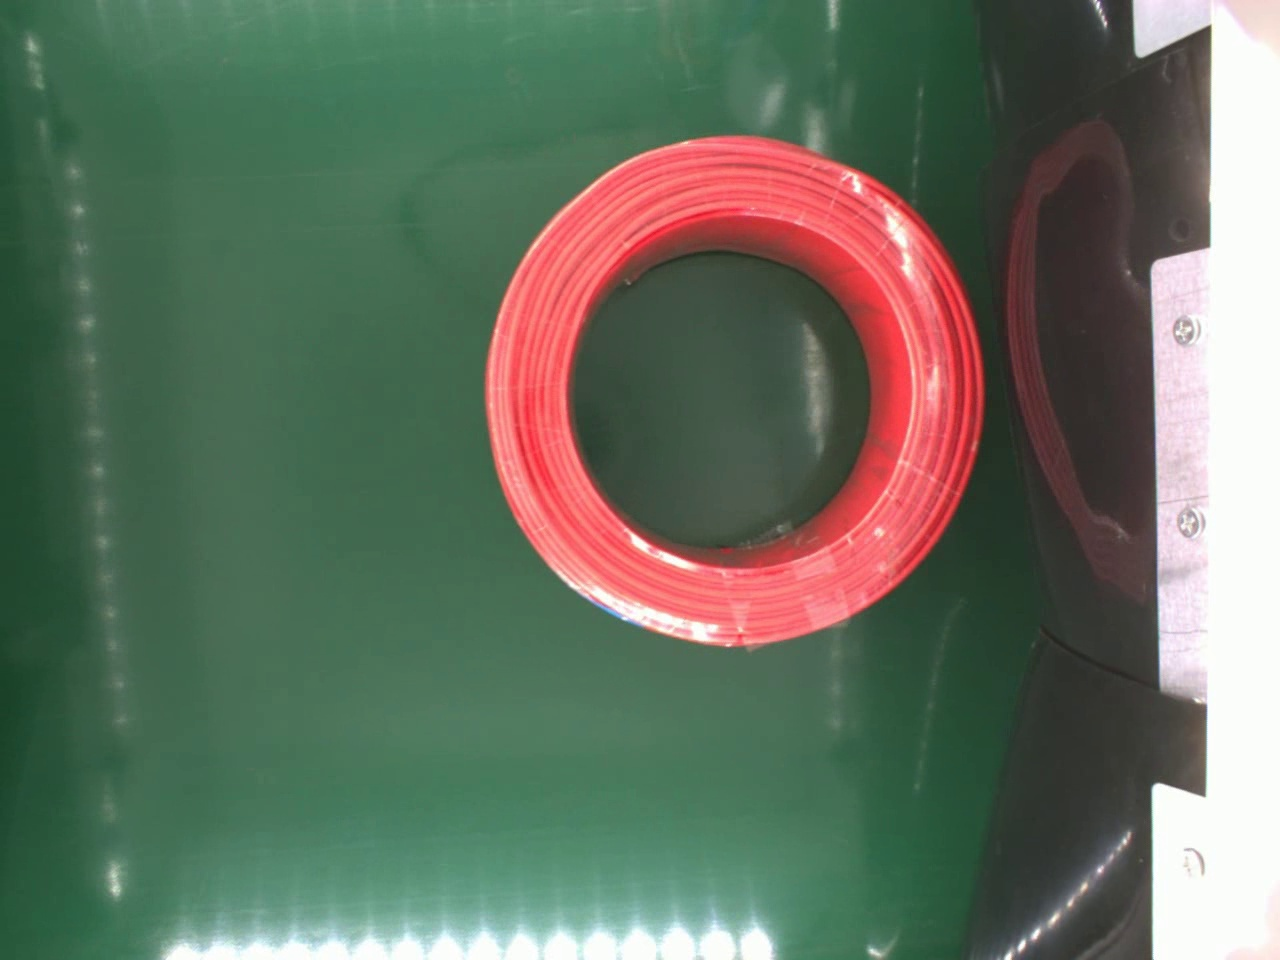red: (484, 130, 992, 653)
